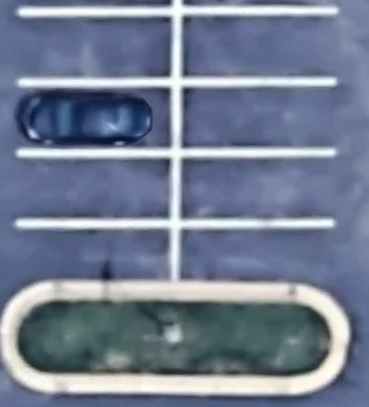Occupied: (17, 82, 177, 153)
Vacant: (176, 9, 336, 82), (17, 9, 176, 81), (16, 153, 176, 224), (177, 83, 337, 153), (177, 153, 335, 223), (16, 223, 176, 290), (177, 223, 333, 289)
